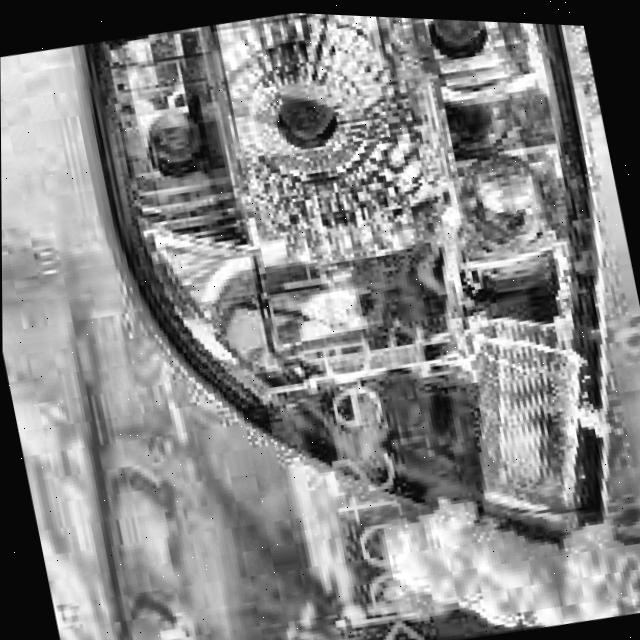tail_lamp: (120, 5, 586, 462)
